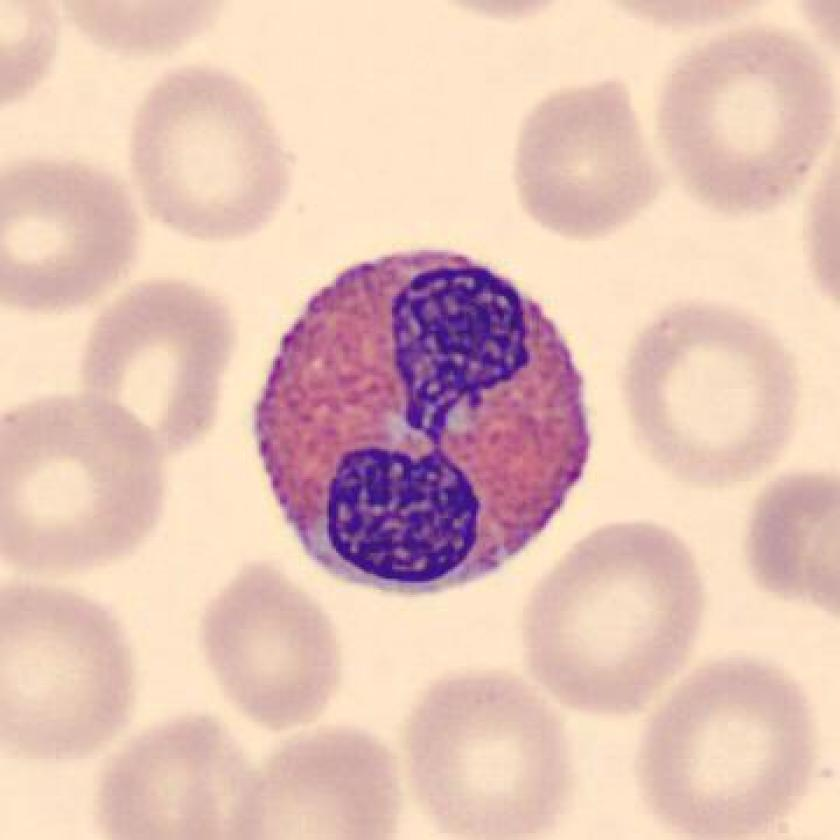eosinophil: (234, 239, 610, 605)
